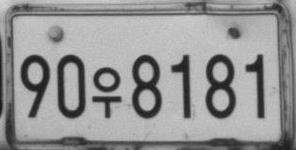0: (57, 54, 86, 119)
1: (242, 53, 274, 118), (168, 53, 199, 118)
8: (205, 53, 236, 119), (131, 54, 162, 118)
9: (19, 53, 51, 118)
우: (91, 66, 121, 119)
